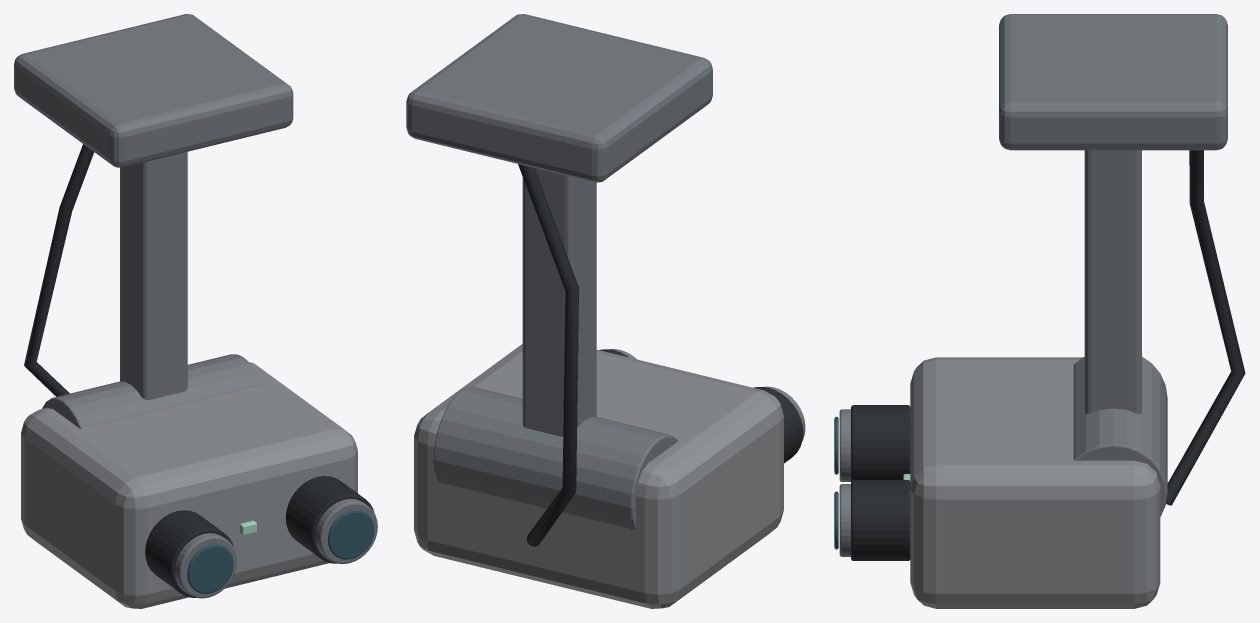
Rendered from BO_OpticalTrackingCamera.fbx.
3 renders of one model, left to right at view 1: azimuth 30°, elevation 25°; view 2: azimuth 150°, elevation 25°; view 3: azimuth 270°, elevation 25°, orthographic. The views are drawn at different scales.
Parts seen in each view (by area): view 1: BO_OpticalTrackingCamera; view 2: BO_OpticalTrackingCamera; view 3: BO_OpticalTrackingCamera.
Boxes of the visible parts, x1,y1,x2,y2 form: BO_OpticalTrackingCamera: (14,14,377,608); BO_OpticalTrackingCamera: (406,14,805,608); BO_OpticalTrackingCamera: (834,14,1245,608).
Bounding box in the file's own units: 29 × 52.5 × 39.49.
